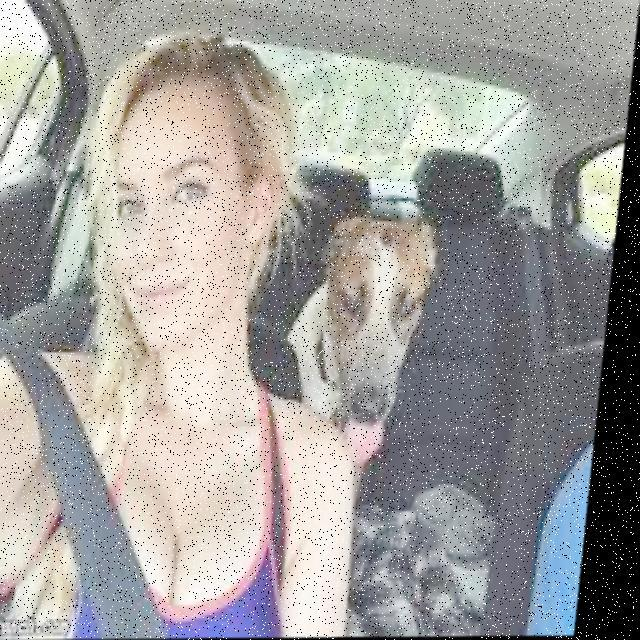seatbelt: (0, 321, 385, 640)
